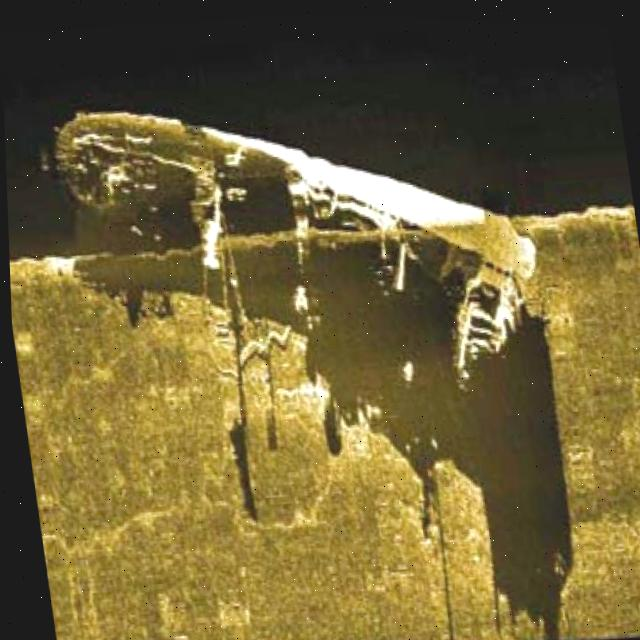shipwreck: (42, 61, 559, 434)
